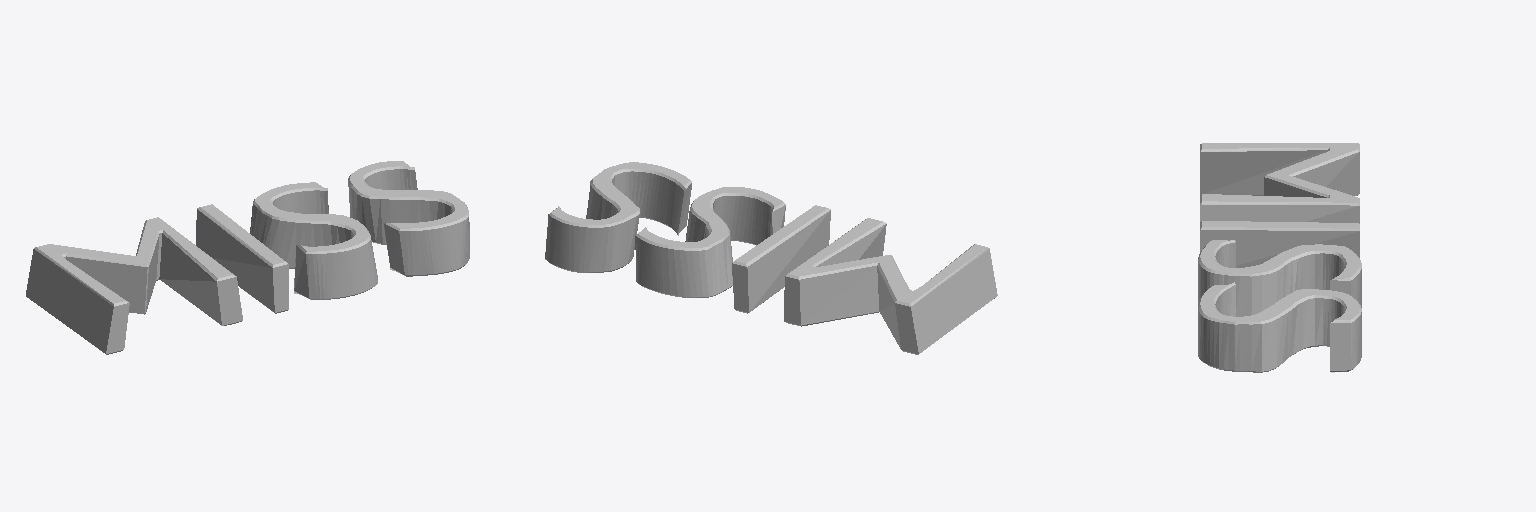
File: missblend.obj
3 views of the same model, side by side, from view 1: azimuth 30°, elevation 25°; view 2: azimuth 150°, elevation 25°; view 3: azimuth 270°, elevation 25° (orthographic).
Visible parts, largest first — view 1: Text_CUText; view 2: Text_CUText; view 3: Text_CUText.
Boxes of the visible parts, box(x1,y1,x2,y2) form: Text_CUText: box(26, 161, 469, 354); Text_CUText: box(545, 162, 997, 354); Text_CUText: box(1198, 143, 1361, 372).
Size of the model in its own units: 1.84 by 0.228 by 0.684.